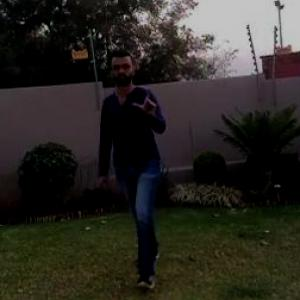land_hand: (130, 83, 160, 118)
